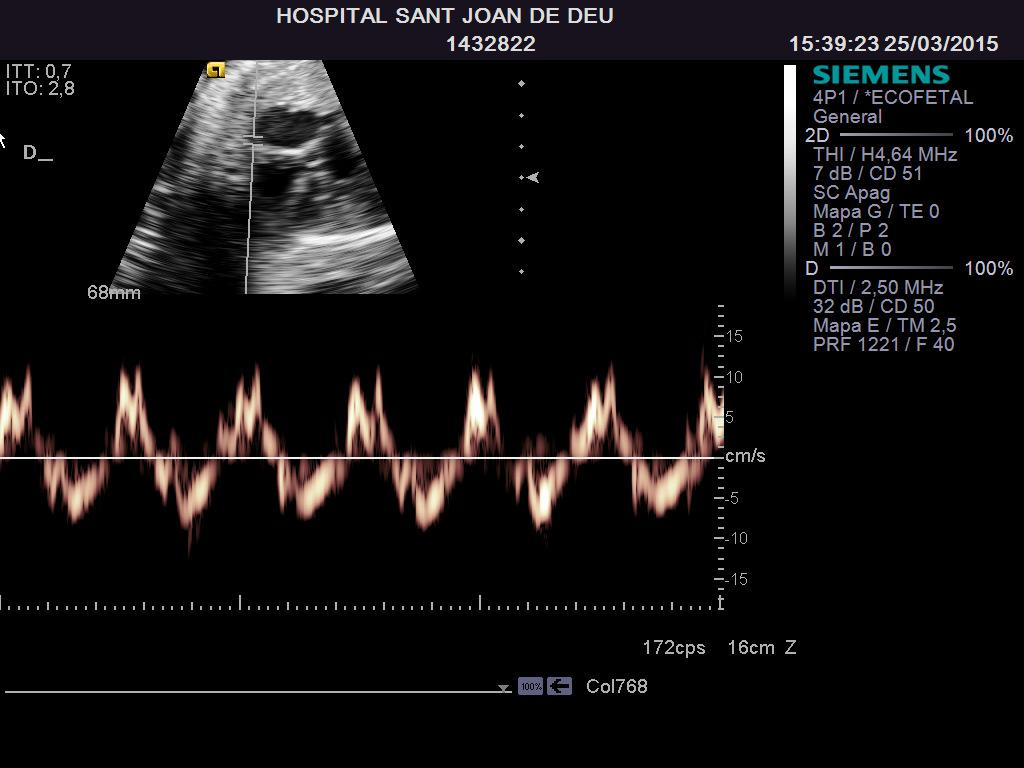Ultrasound-Waves: (2, 306, 712, 596)
